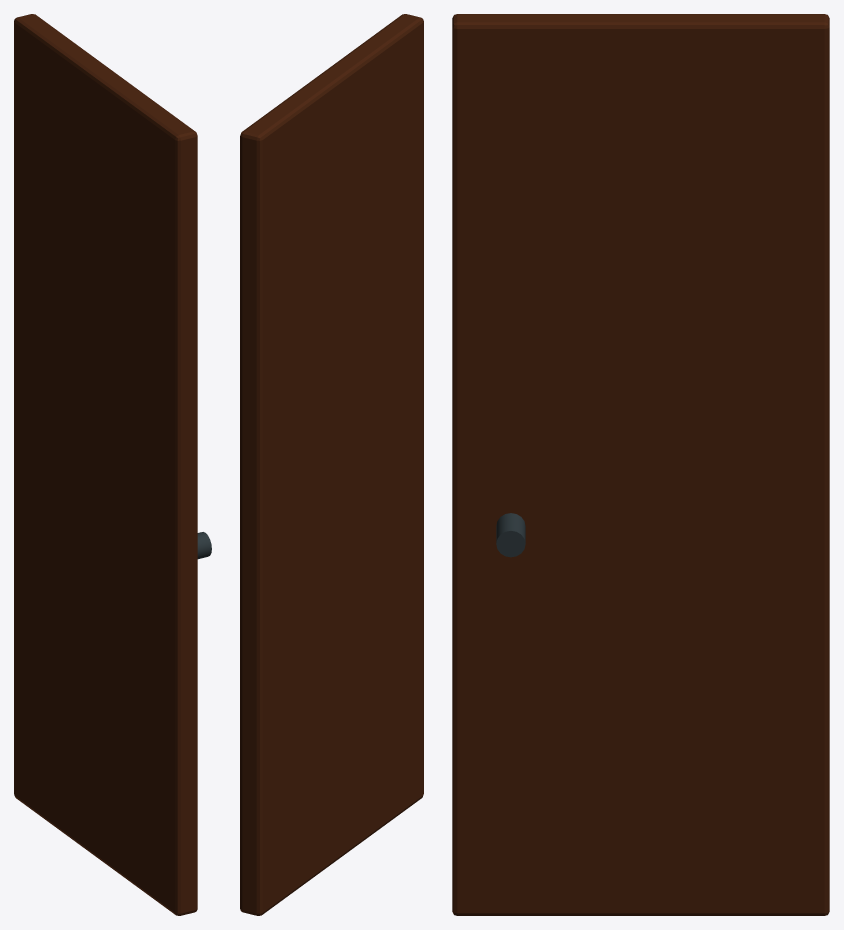
File: Door.fbx
3 renders of one model, left to right at view 1: azimuth 30°, elevation 25°; view 2: azimuth 150°, elevation 25°; view 3: azimuth 270°, elevation 25°, orthographic. The views are drawn at different scales.
Parts seen in each view (by area): view 1: Door; view 2: Door; view 3: Door.
Part boxes in pixels (x1,y1,x2,y2): Door: (14,14,211,915); Door: (240,14,423,915); Door: (452,14,829,915).
Bounding box in the file's own units: 17 × 90 × 235.
